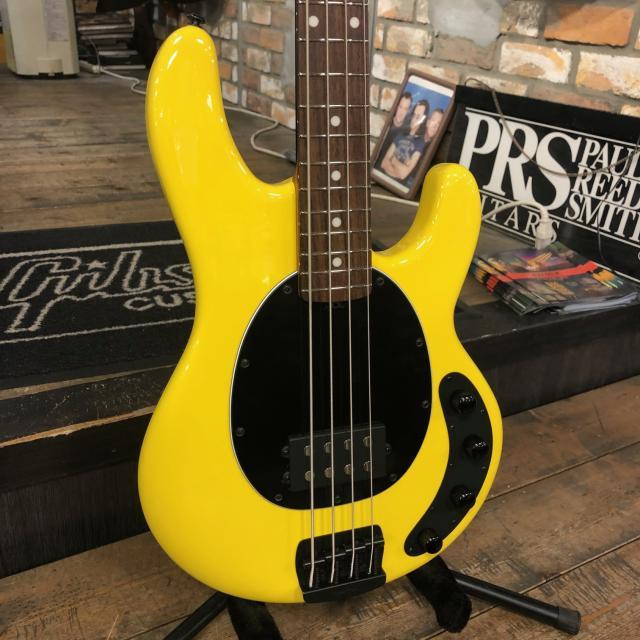bass: (139, 0, 500, 601)
